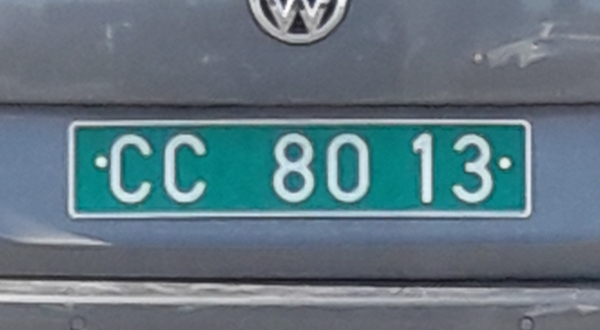license_plate: (68, 120, 532, 220)
